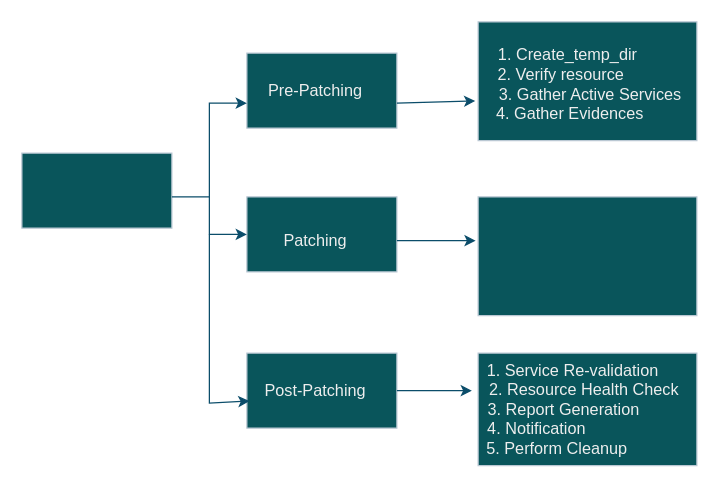
Some shapes in this 719 by 488 pixel diagram are drawn without their labels. Here are the shapes that lost their labels. From the top down, the centre of each, then its label:
point (96, 190): main.yml
point (587, 256): 1. Stop Services 2. Patch Installation 3. Patch Confirmation 4. Restart Services
